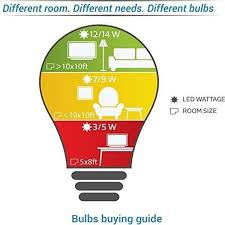bulb: (31, 20, 162, 199)
